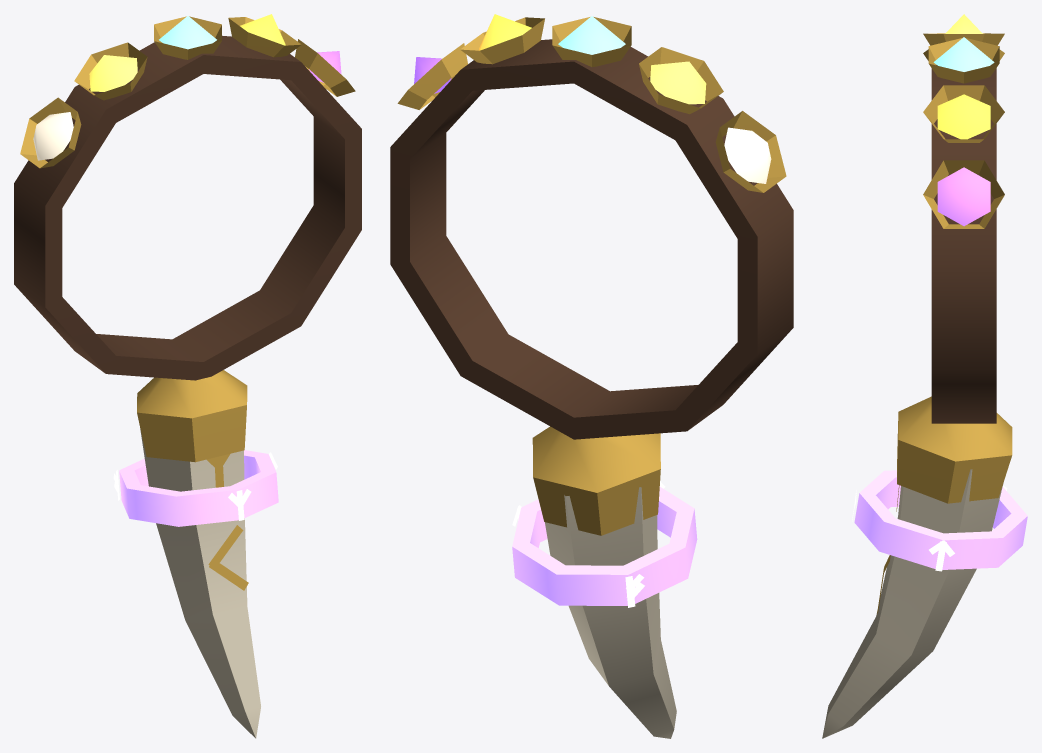
The model's file is tooth-charm-5.glb.
3 views of the same model, side by side, from view 1: azimuth 30°, elevation 25°; view 2: azimuth 150°, elevation 25°; view 3: azimuth 270°, elevation 25° (orthographic). The views are drawn at different scales.
Visible parts, largest first — view 1: tooth-charm-5; view 2: tooth-charm-5; view 3: tooth-charm-5.
Boxes of the visible parts, x1,y1,x2,y2 form: tooth-charm-5: [14, 14, 361, 738]; tooth-charm-5: [390, 14, 793, 738]; tooth-charm-5: [822, 14, 1027, 738].
Size of the model in its own units: 0.0734 by 0.1491 by 0.0396.
